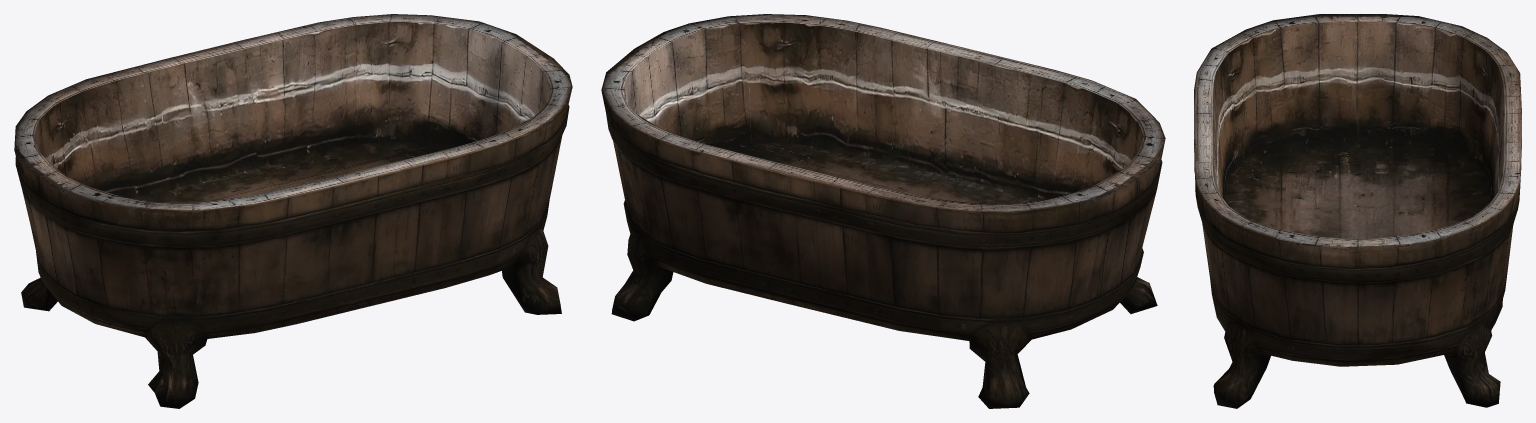
Rendered from bathtub.glb.
3 renders of one model, left to right at view 1: azimuth 30°, elevation 25°; view 2: azimuth 150°, elevation 25°; view 3: azimuth 270°, elevation 25°, orthographic. The views are drawn at different scales.
Bounding box in the file's own units: 2.01 × 0.7404 × 1.18.
Materials: 1 (1 with a texture image).
